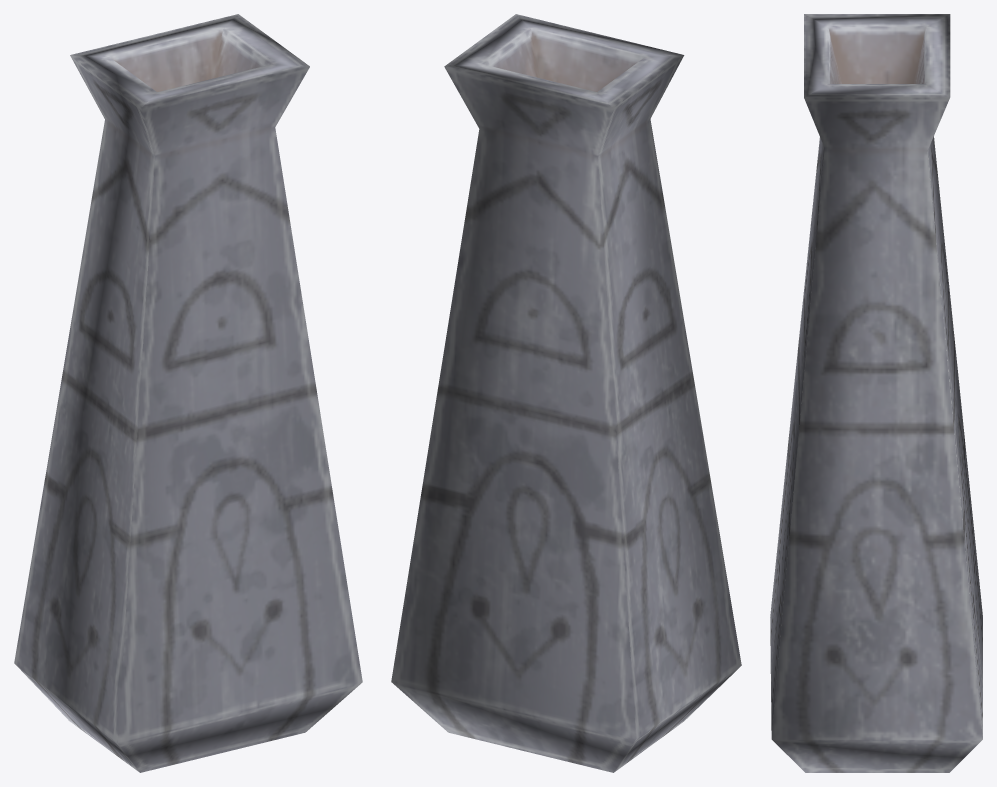
File: Asset_VaseFin_01.fbx
3 renders of one model, left to right at view 1: azimuth 30°, elevation 25°; view 2: azimuth 150°, elevation 25°; view 3: azimuth 270°, elevation 25°, orthographic.
Visible parts, largest first — view 1: Asset_VaseFin_01; view 2: Asset_VaseFin_01; view 3: Asset_VaseFin_01.
Part boxes in pixels (<box>): Asset_VaseFin_01: <box>14,14,362,772</box>; Asset_VaseFin_01: <box>391,14,741,772</box>; Asset_VaseFin_01: <box>770,14,982,772</box>.
Size of the model in its own units: 185 by 477 by 136.
